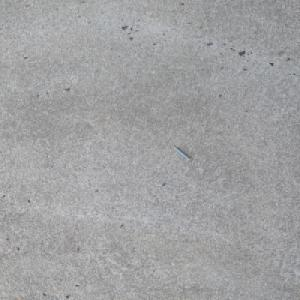Screw: (171, 145, 192, 161)
